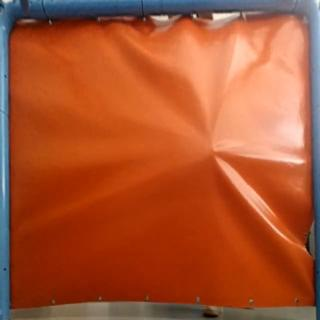Hit-hRxx: (209, 144, 220, 158)
